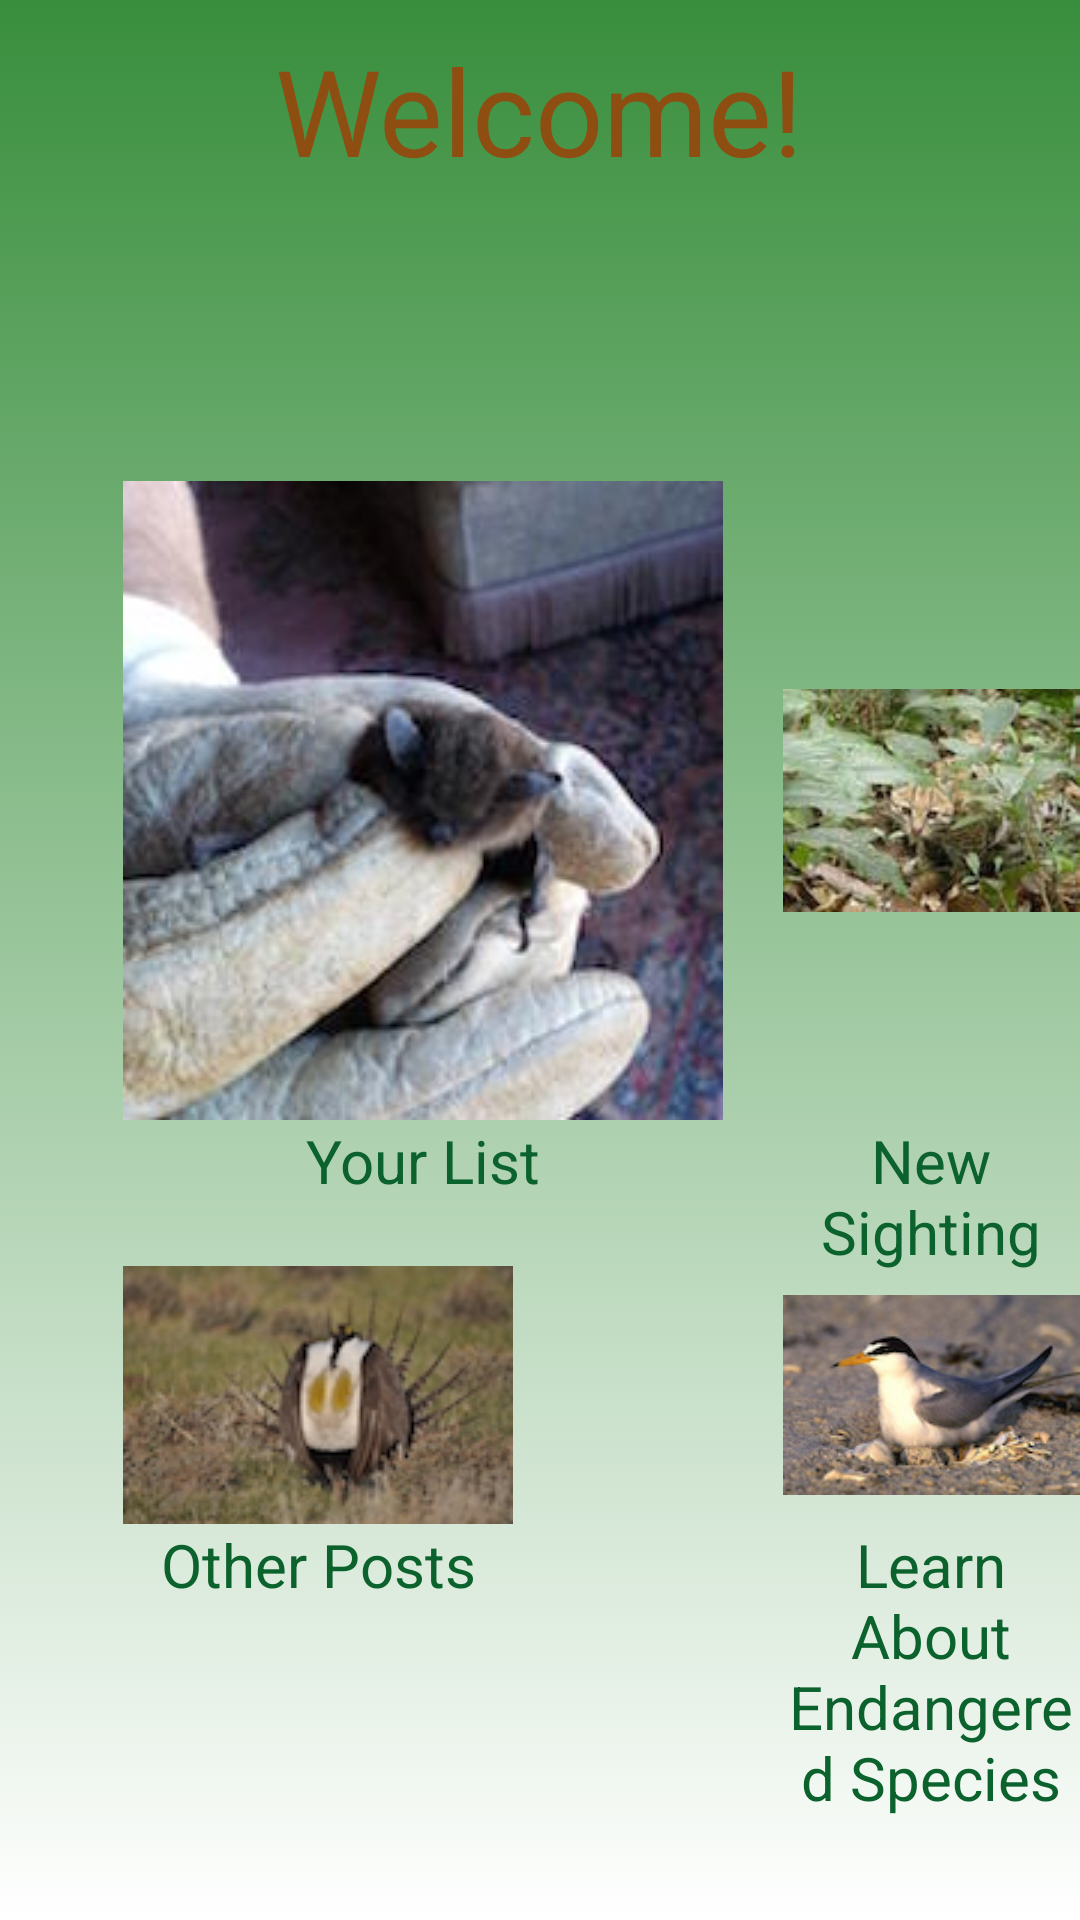

Icons on this 1080*1920 Android screen, each with the point to tap as point (x, y):
tern: point (931, 1395)
